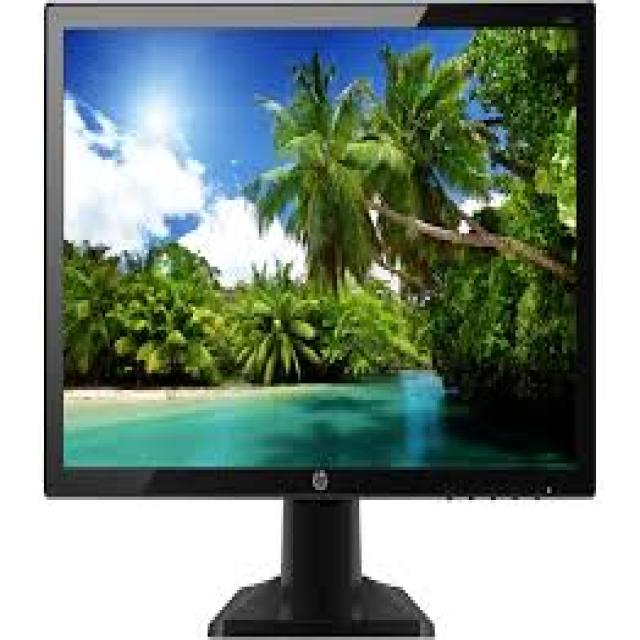monitor: (44, 0, 600, 507)
